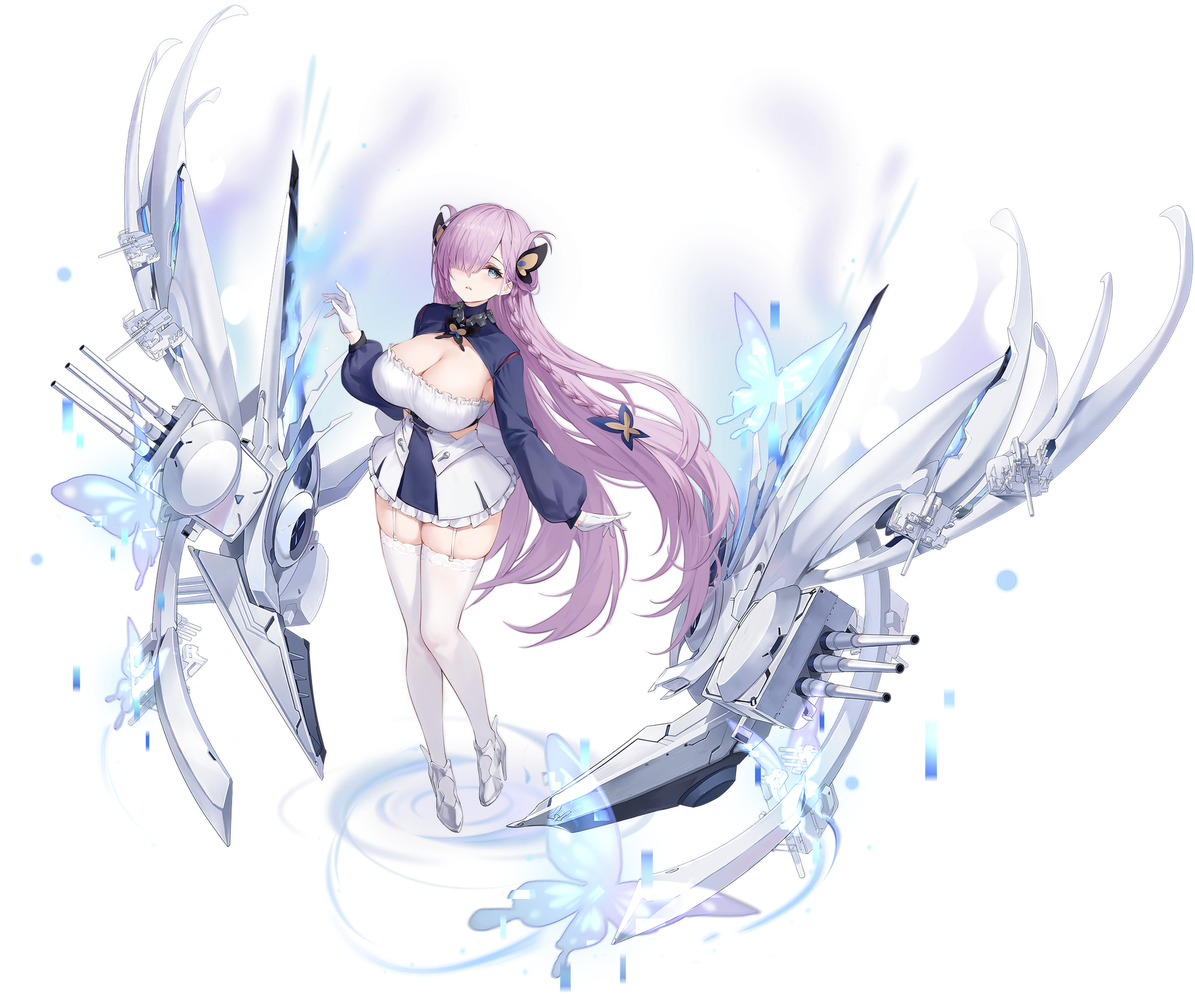person: (271, 141, 738, 995)
